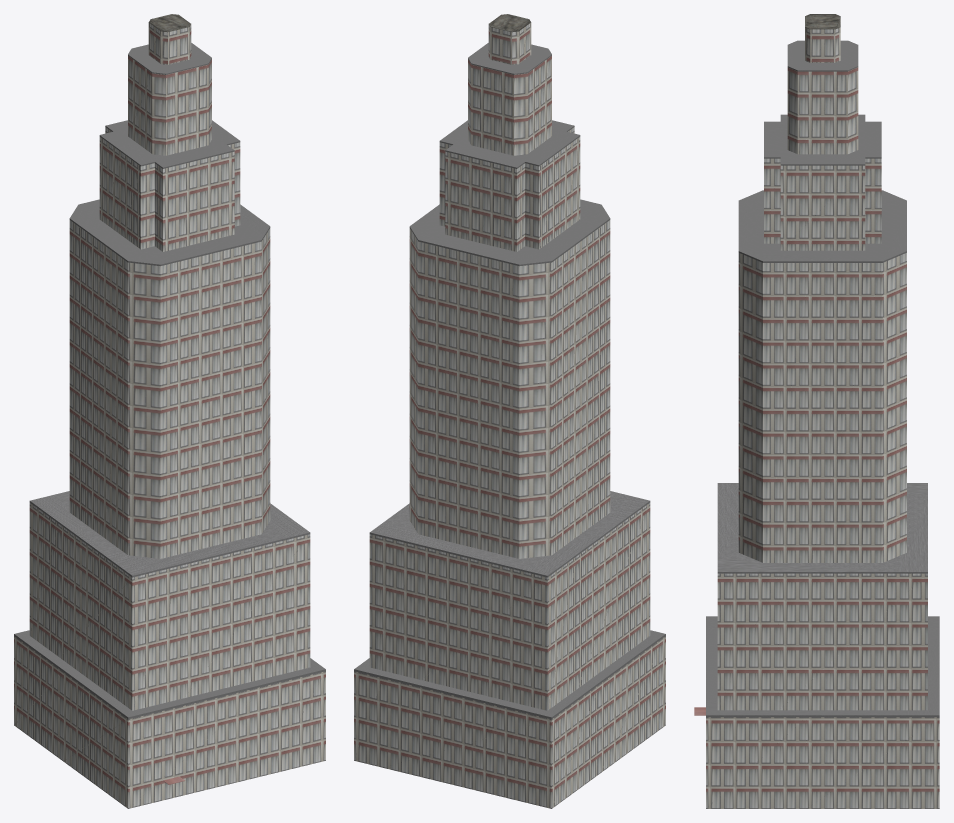
The model's file is LOD01_Building_33stores_Hotel.obj.
3 renders of one model, left to right at view 1: azimuth 30°, elevation 25°; view 2: azimuth 150°, elevation 25°; view 3: azimuth 270°, elevation 25°, orthographic. The views are drawn at different scales.
Parts seen in each view (by area): view 1: LOD01_Building_33stores_Hotel; view 2: LOD01_Building_33stores_Hotel; view 3: LOD01_Building_33stores_Hotel.
Part boxes in pixels (<box>): LOD01_Building_33stores_Hotel: <box>14,14,325,808</box>; LOD01_Building_33stores_Hotel: <box>354,14,665,808</box>; LOD01_Building_33stores_Hotel: <box>694,14,939,808</box>.
Size of the model in its own units: 9.32 by 32.45 by 9.79.
